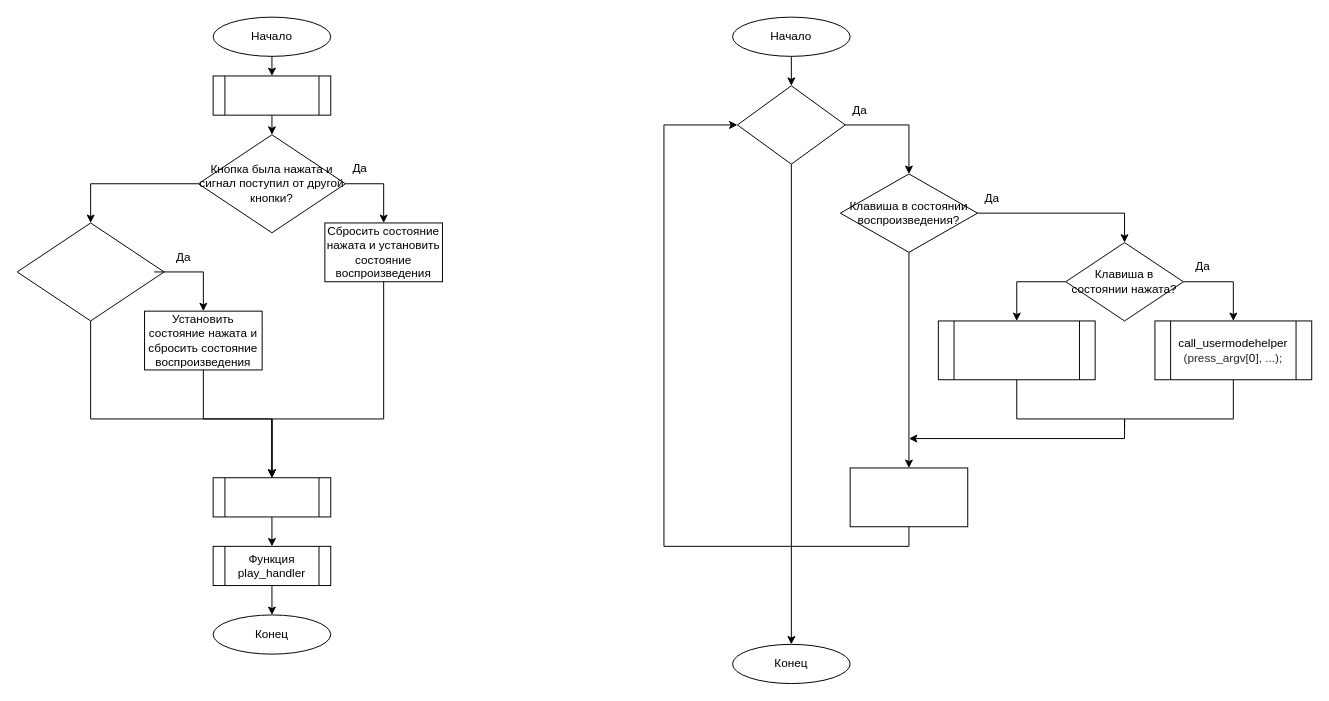
Image size: 1329x701. Some labels were removed from this diagram. The centre of each missing label's shape, as x and y in pixels:
"call_usermodehelper (release_argv[ 0 ], ...);" belongs at point (1016, 350).
"Кнопка не была нажата и сигнал поступил от этой кнопки?" belongs at point (90, 271).
"Поступление сигнала от устройства" belongs at point (271, 95).
"Поток засыпает" belongs at point (908, 497).
"Поток продолжает работу?" belongs at point (790, 124).
"Пробуждение потока" belongs at point (271, 497).
